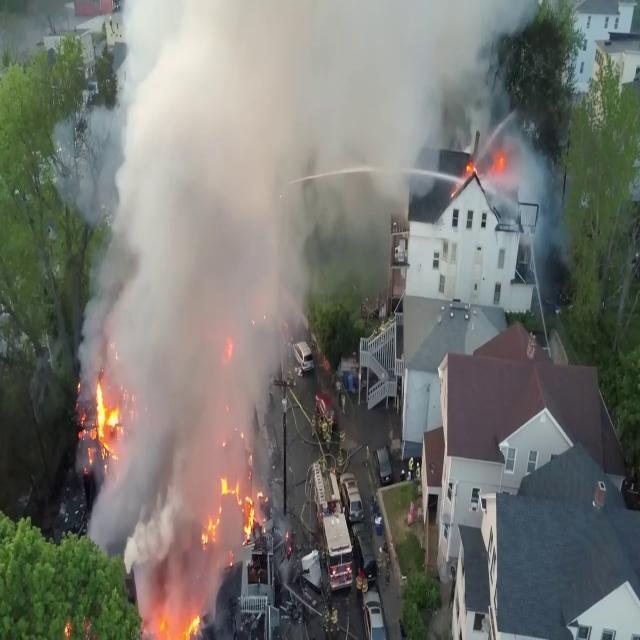Fire: (209, 472, 267, 543), (87, 378, 123, 459), (148, 602, 204, 640)
Smoke: (76, 1, 472, 490)
